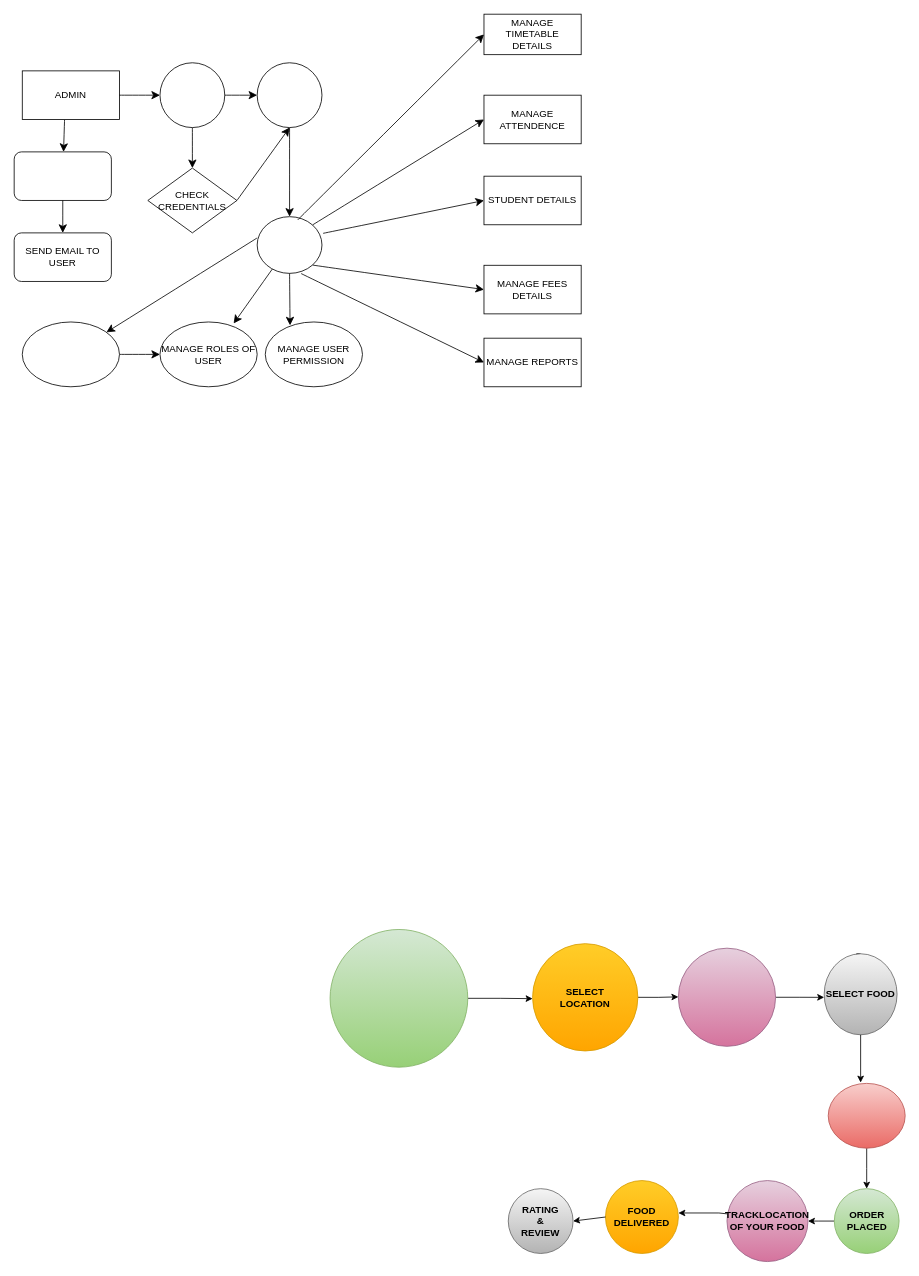
Image size: 919x1276. Some labels were removed from this diagram. Here are the shapes that lost their labels. From the top down, the centre of each, then its label:
point (192, 95): LOGIN TO SYSTEM
point (289, 95): CHECKROLES OF ACCESS
point (62, 175): FORGOT PASSWORD
point (289, 244): MANAGE MMODELS
point (70, 354): MANAGE SYSTEM ADMNS
point (398, 998): LOGIN/SIGNUP
point (727, 996): SELECT RESTURANT
point (866, 1115): MAKE PAYMENT
